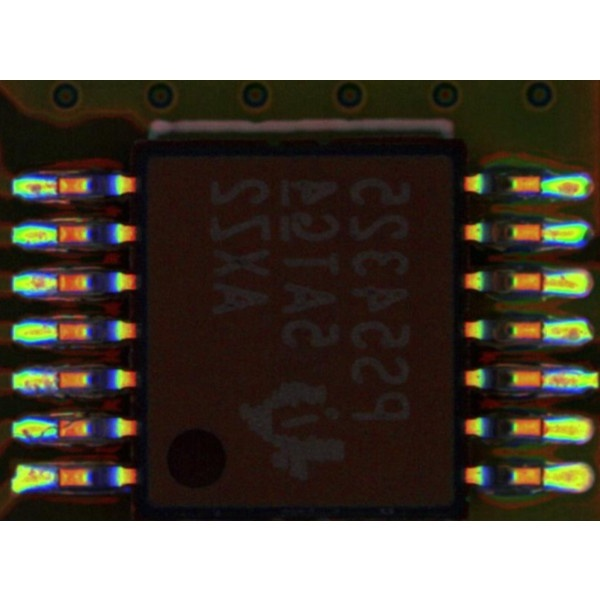Bad_podu: (524, 471, 563, 482), (530, 421, 562, 434), (528, 277, 559, 288), (524, 230, 560, 238), (40, 182, 68, 191)
